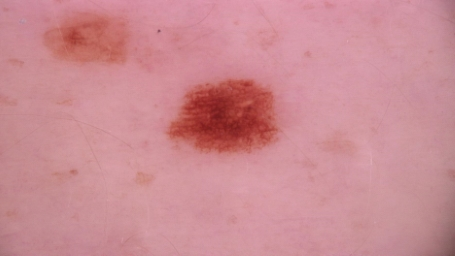melanoma: (169, 79, 280, 156), (42, 20, 126, 64)
